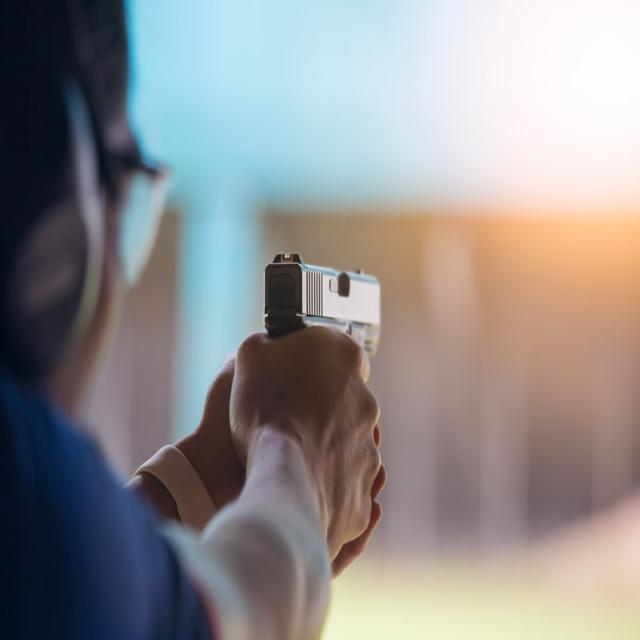HandGun: (252, 244, 394, 400)
